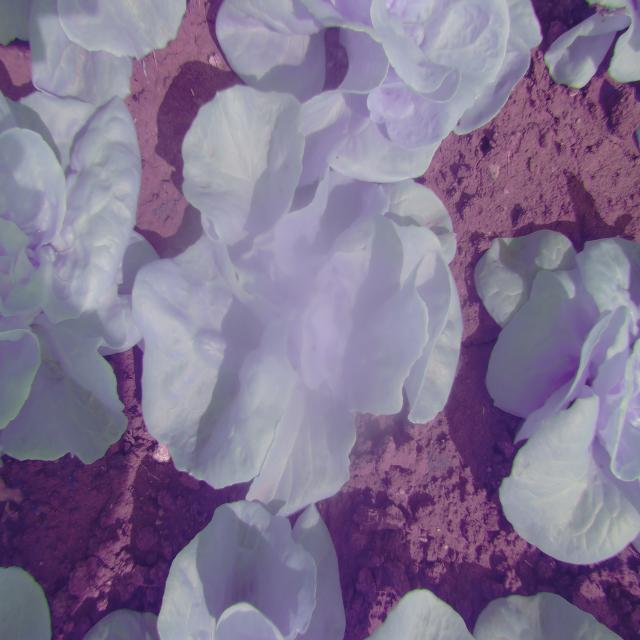vege: (138, 92, 466, 515)
